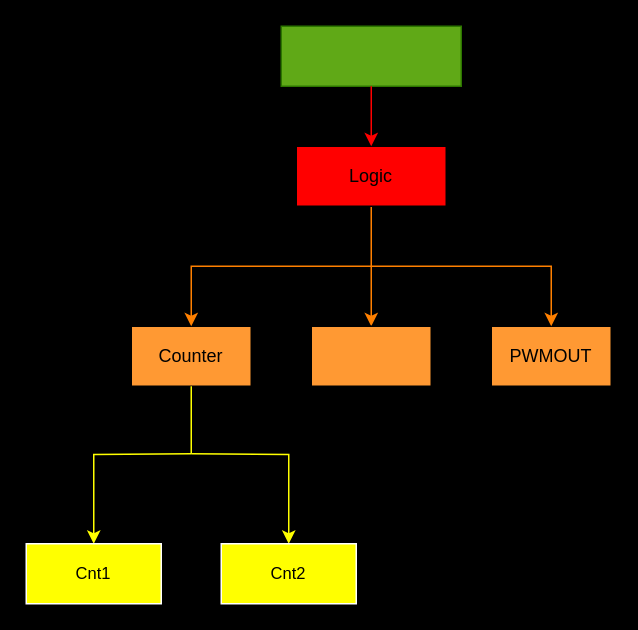
This 638x630 diagram has some shape labels left out. The centre of each missing label's shape, as x and y in pixels:
"FSM" goes at point (370, 355).
"PWM" goes at point (370, 55).
